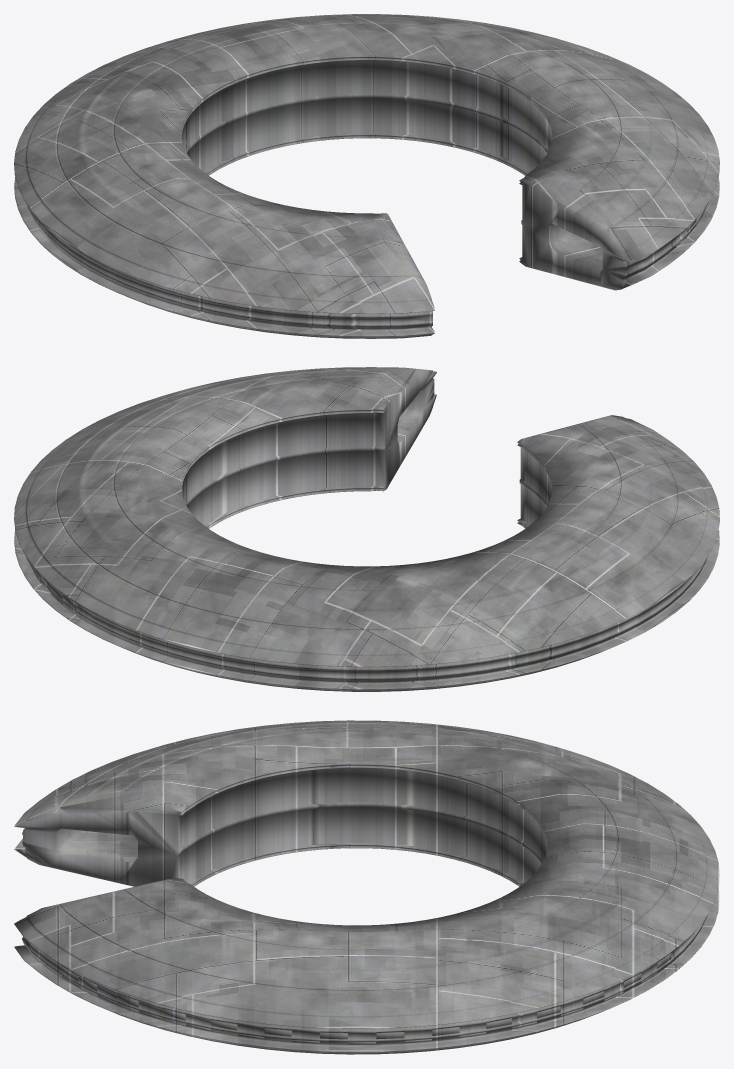
File: chasis.fbx
3 views of the same model, one above another, from view 1: azimuth 30°, elevation 25°; view 2: azimuth 150°, elevation 25°; view 3: azimuth 270°, elevation 25° (orthographic). The views are drawn at different scales.
Parts seen in each view (by area): view 1: chasis; view 2: chasis; view 3: chasis.
Part boxes in pixels (x1=…): chasis: x1=14, y1=14, x2=719, y2=338; chasis: x1=14, y1=367, x2=719, y2=691; chasis: x1=14, y1=720, x2=719, y2=1054.
Bounding box in the file's own units: 528 × 80.09 × 513.
